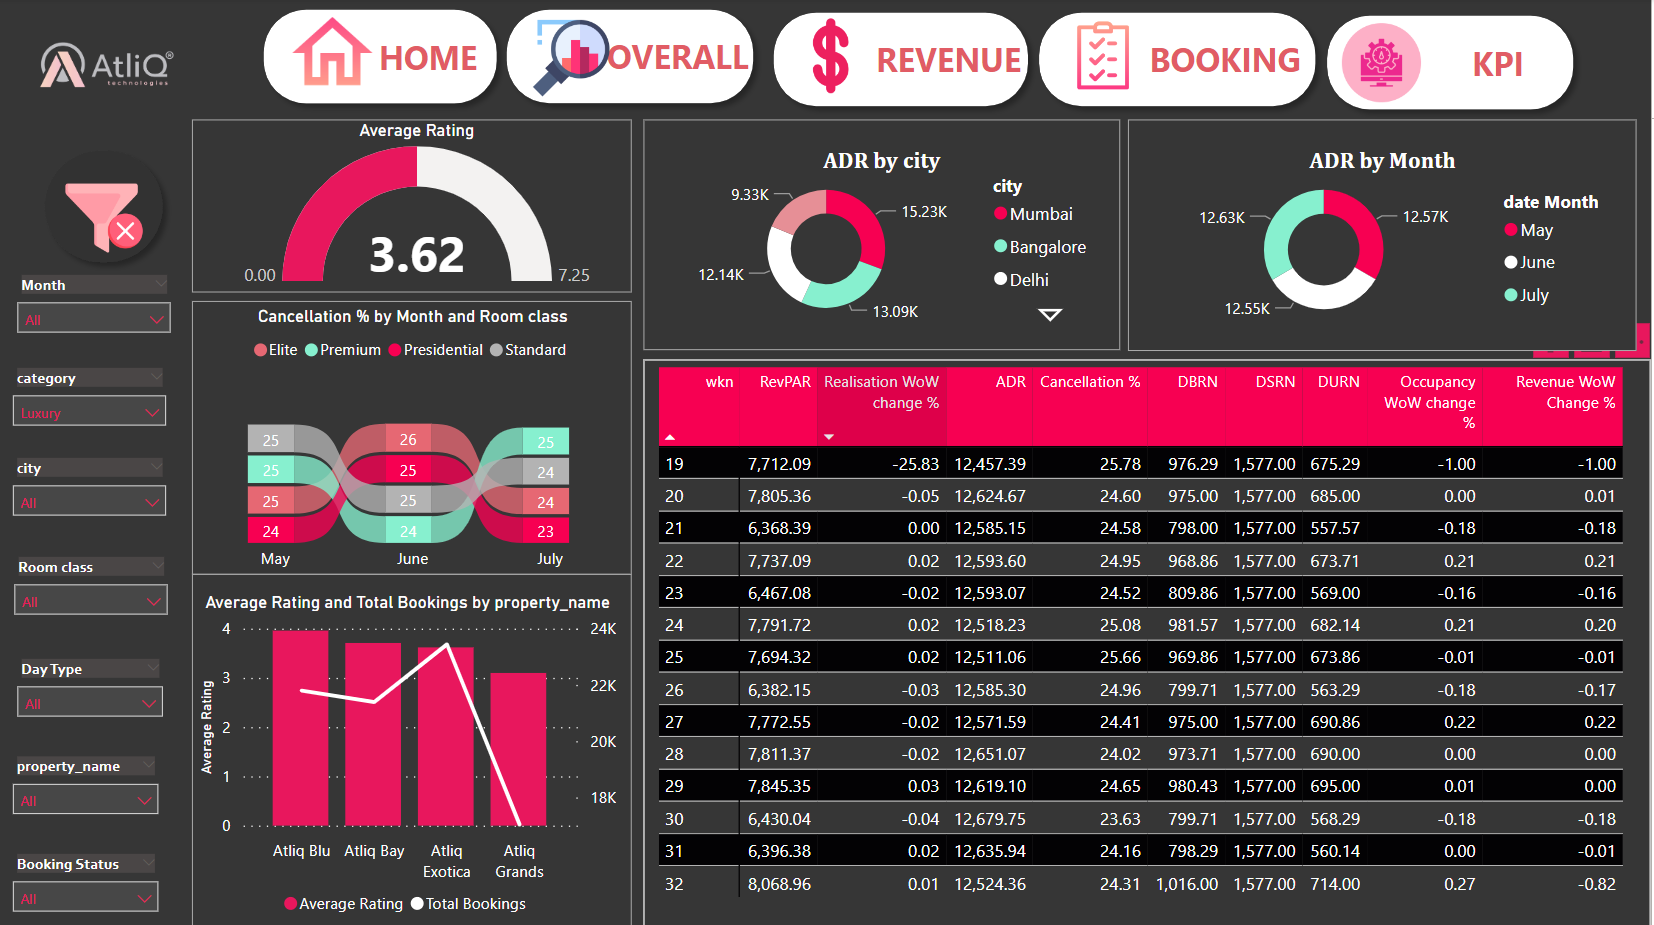

This screenshot's page, from the dashboard's own definition file:
{"tool":"powerbi","page":{"name":"KPI","canvas":[1280,720],"ordinal":4},"visuals":[{"type":"shape","box":[195.6,0,198.7,90.8],"z":0,"group":"g4"},{"type":"group","id":"g1","title":"Group 1","box":[384.6,0,209.1,90.5],"z":0,"group":"g5"},{"type":"shape","title":"OVERALL","box":[384.6,0,209.1,90.5],"z":0,"group":"g1"},{"type":"shape","box":[590.9,2,215.1,90.5],"z":0,"group":"g9"},{"type":"shape","box":[795.6,2,232.1,90.5],"z":0,"group":"g6"},{"type":"group","id":"g2","title":"Group 1","box":[1019.5,5,208.7,90.8],"z":0,"group":"g8"},{"type":"shape","box":[1019.5,5,208.7,90.8],"z":0,"group":"g2"},{"type":"gauge","fields":{"Y":["key_measures.Average Rating"]},"box":[148.2,93.8,340.8,134.1],"z":0},{"type":"shape","box":[26.1,108.9,109.6,104.5],"z":0,"group":"g10"},{"type":"image","box":[370.1,11.1,146.6,69.4],"z":1000,"group":"g5"},{"type":"image","box":[1034.5,13.1,71.6,74.6],"z":1000,"group":"g8"},{"type":"pivotTable","fields":{"Rows":["dim_date.wkn"],"Values":["key_measures.RevPAR","key_measures.Realisation WoW change %","key_measures.ADR","key_measures.Cancellation %","key_measures.DBRN","key_measures.DSRN","key_measures.DURN","dim_date.Occupancy WoW change %","key_measures.Revenue WoW Change %"]},"box":[498.2,280.3,781.5,439.7],"z":1000},{"type":"ribbonChart","fields":{"Category":["dim_date.date.Variation.Date Hierarchy.Month"],"Series":["dim_rooms.Room class"],"Y":["key_measures.Cancellation %"]},"box":[148.2,235,340.8,211.8],"z":2000},{"type":"lineClusteredColumnComboChart","fields":{"Category":["dim_hotels.property_name"],"Y":["key_measures.Average Rating"],"Y2":["key_measures.Total Bookings"]},"box":[148.2,446.7,340.8,273.3],"z":3000},{"type":"group","id":"g3","title":"Group 10","box":[0,108.9,142.2,610.1],"z":4000},{"type":"image","box":[17.1,13.1,129.1,80.7],"z":5000},{"type":"donutChart","fields":{"Y":["key_measures.ADR"],"Category":["dim_date.date.Variation.Date Hierarchy.Month"]},"box":[874.3,93.8,394.3,179.5],"z":6000},{"type":"slicer","fields":{"Values":["dim_hotels.city"]},"box":[0,351.2,138.7,60.3],"z":6000,"group":"g3"},{"type":"donutChart","fields":{"Y":["key_measures.ADR"],"Category":["dim_hotels.city"]},"box":[498.2,93.8,369.1,178.5],"z":7000},{"type":"slicer","fields":{"Values":["dim_date.day type"]},"box":[3,506,132.7,61.3],"z":7000,"group":"g3"},{"type":"group","id":"g4","title":"Group 1","box":[195.6,0,198.7,90.8],"z":8000},{"type":"slicer","fields":{"Values":["dim_rooms.room_class"]},"box":[1,427.6,138.7,65.3],"z":8000,"group":"g3"},{"type":"group","id":"g5","title":"Group 2","box":[370.1,0,223.6,90.5],"z":9000},{"type":"slicer","fields":{"Values":["dim_hotels.property_name"]},"box":[0,582.4,132.7,60.3],"z":9000,"group":"g3"},{"type":"group","id":"g6","title":"Group 1","box":[771.4,2,256.1,90.8],"z":10000},{"type":"slicer","fields":{"Values":["fact_bookings.booking_status"]},"box":[0,657.8,132.7,61.3],"z":10000,"group":"g3"},{"type":"group","id":"g7","title":"Group 9","box":[590.9,2,215.8,90.8],"z":11000},{"type":"group","id":"g8","title":"Group 11","box":[1019.5,5,208.7,90.8],"z":12000},{"type":"image","box":[46.2,132,70.4,75.4],"z":12000,"group":"g10"},{"type":"group","id":"g9","title":"Group 1","box":[590.9,2,215.1,90.5],"z":13000,"group":"g7"},{"type":"slicer","fields":{"Values":["dim_hotels.category"]},"box":[0,280.8,138.7,60.3],"z":20000,"group":"g3"},{"type":"slicer","fields":{"Values":["dim_date.date.Variation.Date Hierarchy.Month"]},"box":[3,208.4,138.7,60.3],"z":21000,"group":"g3"},{"type":"group","id":"g10","title":"Group 8","box":[26.1,108.9,109.6,104.5],"z":22000,"group":"g3"},{"type":"image","box":[602.3,10,83.4,68.4],"z":24001,"group":"g7"},{"type":"image","box":[771.4,12.1,166.4,63.3],"z":25001,"group":"g6"},{"type":"image","title":"HOME","box":[198.1,0,119.9,84.7],"z":26000,"group":"g4"}]}

Visuals, with their boxes in screenshot pixels (x1, y1, x2, y2), scaled from the page's 1280x720 canvas onto the 1654x925 screenshot:
shape: select_region(253, 0, 510, 117)
"Group 1" group: select_region(497, 0, 767, 116)
"OVERALL" shape: select_region(497, 0, 767, 116)
shape: select_region(764, 3, 1042, 119)
shape: select_region(1028, 3, 1328, 119)
"Group 1" group: select_region(1317, 6, 1587, 123)
shape: select_region(1317, 6, 1587, 123)
gauge - key_measures.Average Rating: select_region(192, 121, 632, 293)
shape: select_region(34, 140, 175, 274)
image: select_region(478, 14, 668, 103)
image: select_region(1337, 17, 1429, 113)
pivotTable - dim_date.wkn x key_measures.RevPAR: select_region(644, 360, 1653, 924)
ribbonChart - dim_date.date.Variation.Date Hierarchy.Month x dim_rooms.Room class: select_region(192, 302, 632, 574)
lineClusteredColumnComboChart - dim_hotels.property_name x key_measures.Average Rating: select_region(192, 574, 632, 924)
"Group 10" group: select_region(0, 140, 184, 924)
image: select_region(22, 17, 189, 121)
donutChart - key_measures.ADR x dim_date.date.Variation.Date Hierarchy.Month: select_region(1130, 121, 1639, 351)
slicer - dim_hotels.city: select_region(0, 451, 179, 529)
donutChart - key_measures.ADR x dim_hotels.city: select_region(644, 121, 1121, 350)
slicer - dim_date.day type: select_region(4, 650, 175, 729)
"Group 1" group: select_region(253, 0, 510, 117)
slicer - dim_rooms.room_class: select_region(1, 549, 181, 633)
"Group 2" group: select_region(478, 0, 767, 116)
slicer - dim_hotels.property_name: select_region(0, 748, 171, 826)
"Group 1" group: select_region(997, 3, 1328, 119)
slicer - fact_bookings.booking_status: select_region(0, 845, 171, 924)
"Group 9" group: select_region(764, 3, 1042, 119)
"Group 11" group: select_region(1317, 6, 1587, 123)
image: select_region(60, 170, 151, 266)
"Group 1" group: select_region(764, 3, 1042, 119)
slicer - dim_hotels.category: select_region(0, 361, 179, 438)
slicer - dim_date.date.Variation.Date Hierarchy.Month: select_region(4, 268, 183, 345)
"Group 8" group: select_region(34, 140, 175, 274)
image: select_region(778, 13, 886, 101)
image: select_region(997, 16, 1212, 97)
"HOME" image: select_region(256, 0, 411, 109)
